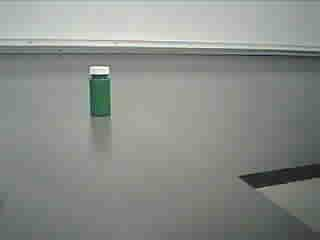Bottle C: (81, 62, 122, 123)
